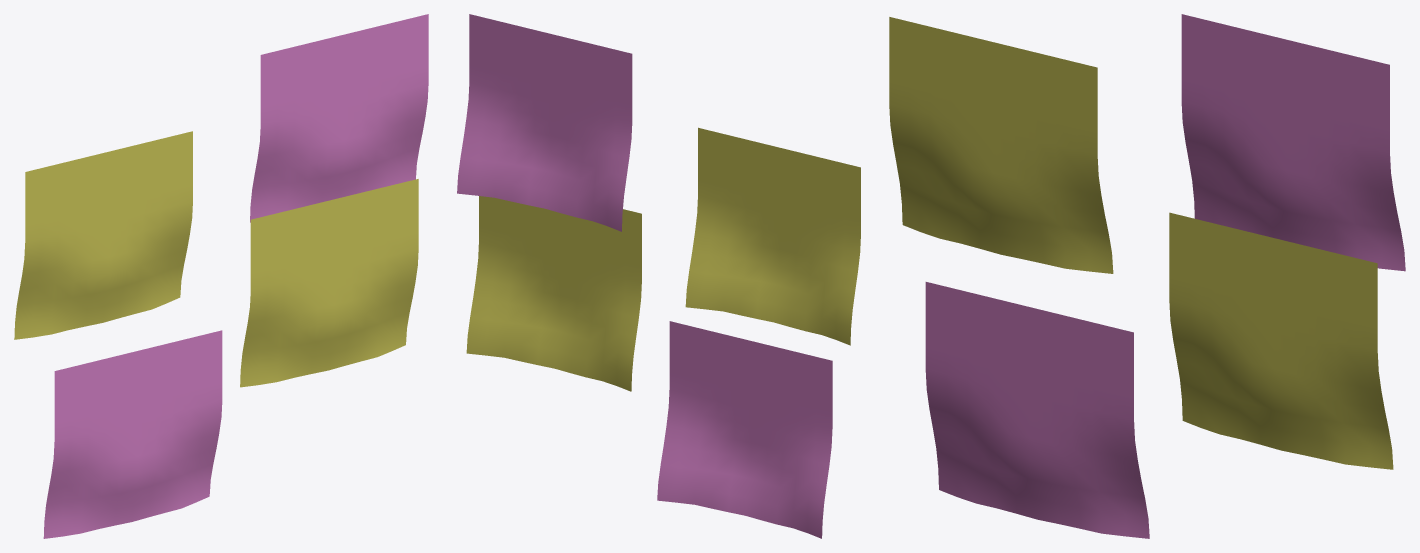
The model's file is OfficePapernotes.fbx.
3 views of the same model, side by side, from view 1: azimuth 30°, elevation 25°; view 2: azimuth 150°, elevation 25°; view 3: azimuth 330°, elevation 25° (orthographic). The views are drawn at different scales.
Visible parts, largest first — view 1: pPlane75; view 2: pPlane75; view 3: pPlane75.
Boxes of the visible parts, x1=… form: pPlane75: x1=14, y1=14, x2=428, y2=538; pPlane75: x1=457, y1=14, x2=860, y2=538; pPlane75: x1=889, y1=14, x2=1405, y2=538.
Size of the model in its own units: 0.3187 by 0.3334 by 0.0174.
